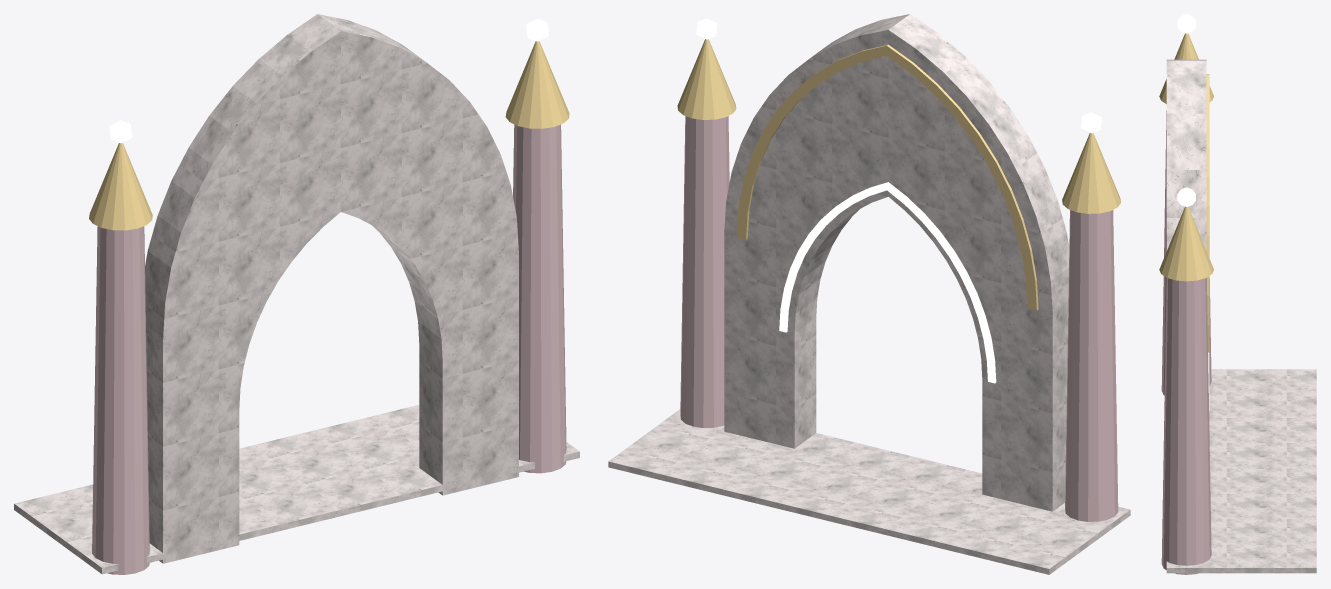
The model's file is GatePortalNorth.glb.
The picture shows the model from 3 angles, left to right: view 1: azimuth 30°, elevation 25°; view 2: azimuth 150°, elevation 25°; view 3: azimuth 270°, elevation 25°; orthographic projection. The views are drawn at different scales.
Visible parts, largest first — view 1: GatePortalNorth-marble, GatePortalNorth-rose, GatePortalNorth-gold, GatePortalNorth-glow; view 2: GatePortalNorth-marble, GatePortalNorth-rose, GatePortalNorth-gold, GatePortalNorth-glow; view 3: GatePortalNorth-marble, GatePortalNorth-rose, GatePortalNorth-gold, GatePortalNorth-glow.
Part boxes in pixels (x1,y1,x2,y2): GatePortalNorth-marble: (14,14,579,574); GatePortalNorth-rose: (92,124,566,574); GatePortalNorth-gold: (89,41,569,230); GatePortalNorth-glow: (109,18,548,143); GatePortalNorth-marble: (608,14,1130,574); GatePortalNorth-rose: (680,116,1118,521); GatePortalNorth-gold: (677,39,1120,310); GatePortalNorth-glow: (696,18,1101,383); GatePortalNorth-marble: (1166,59,1316,573); GatePortalNorth-rose: (1161,110,1211,574); GatePortalNorth-gold: (1159,33,1213,352); GatePortalNorth-glow: (1177,14,1209,410).
Bounding box in the file's own units: 94 × 92 × 31.5.
Materials: 4 (1 with a texture image).
